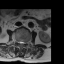CCS_normal: (20, 39, 22, 47)
LFS_normal: (24, 39, 26, 46)
LLS_normal: (22, 39, 24, 46)
RFS_normal: (16, 38, 18, 45)
RLS_normal: (18, 39, 20, 45)
